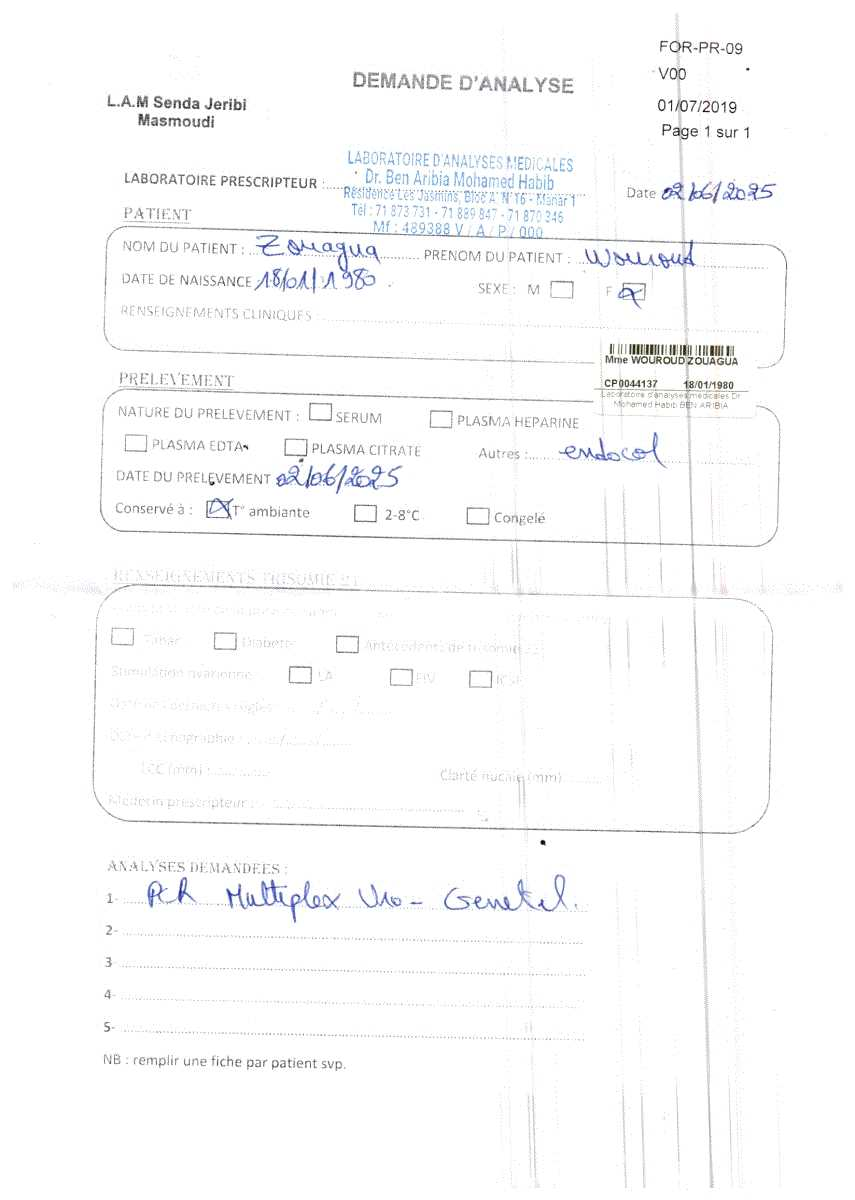zone_analyses: (104, 849, 661, 965)
zone_date: (617, 161, 813, 209)
zone_patient: (114, 202, 793, 325)
